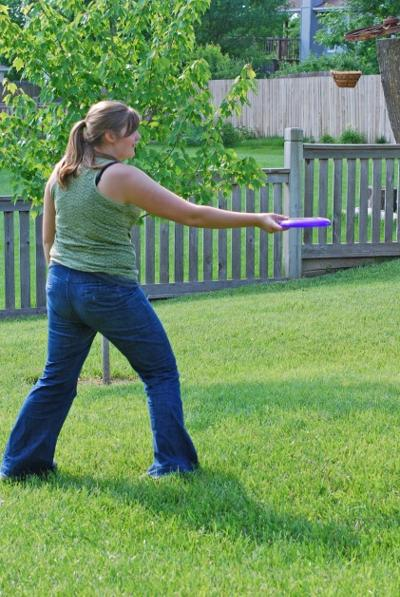person: (6, 99, 293, 478)
